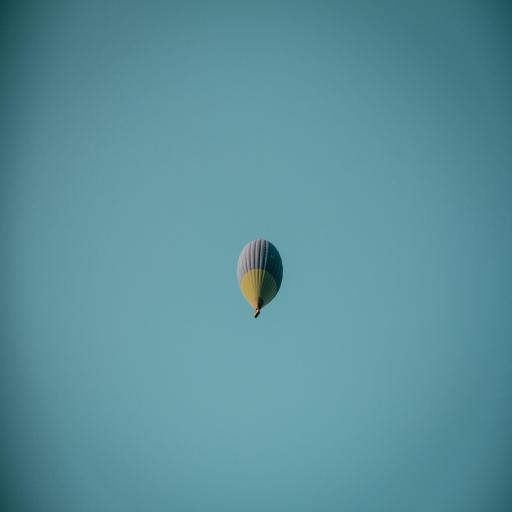hot air ballon: (236, 239, 284, 319)
